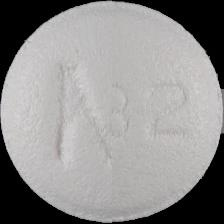43353-156: (0, 0, 224, 224)
